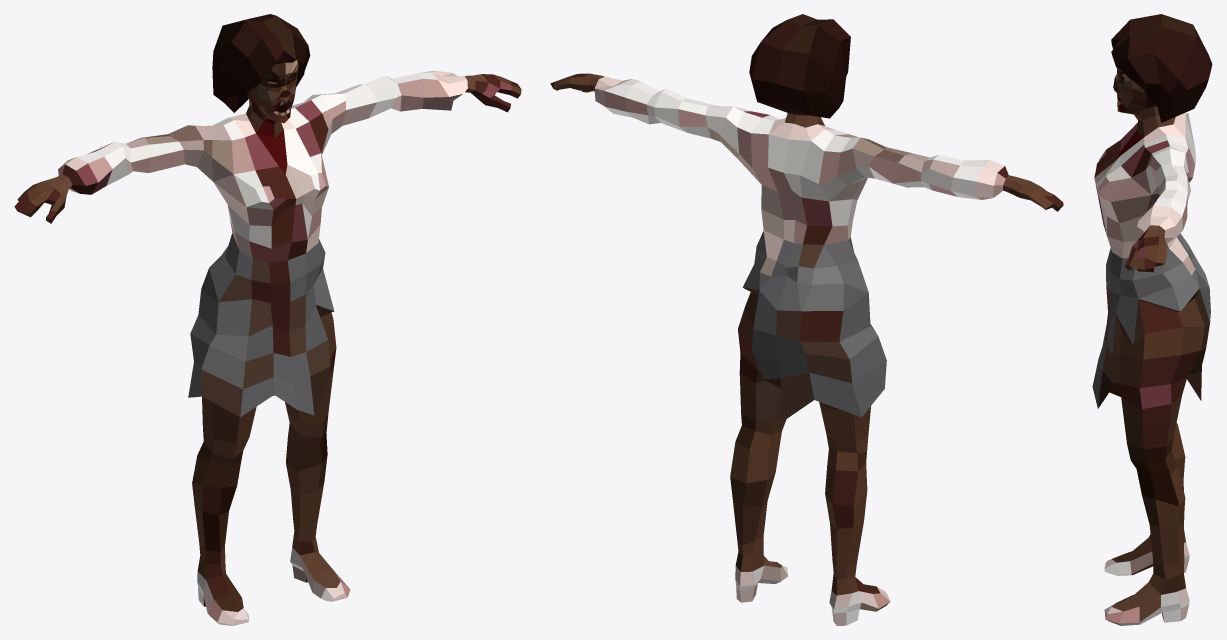
The model's file is lpFemale_zombie_E-model.fbx.
The picture shows the model from 3 angles, left to right: view 1: azimuth 30°, elevation 25°; view 2: azimuth 150°, elevation 25°; view 3: azimuth 270°, elevation 25°; orthographic projection.
Parts seen in each view (by area): view 1: lpFemale_zombie_E; view 2: lpFemale_zombie_E; view 3: lpFemale_zombie_E.
Part boxes in pixels (x1=…): lpFemale_zombie_E: x1=14, y1=14, x2=521, y2=625; lpFemale_zombie_E: x1=550, y1=14, x2=1063, y2=625; lpFemale_zombie_E: x1=1092, y1=14, x2=1212, y2=625.
Bounding box in the file's own units: 157 × 172 × 32.66.
1 material, 1 textured.
